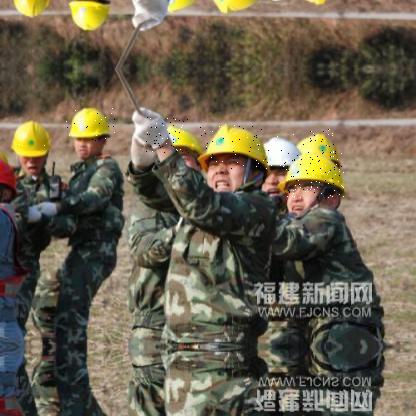safetyhelmet: (196, 122, 268, 171), (285, 154, 345, 200), (66, 106, 116, 142), (146, 116, 192, 154), (12, 124, 54, 164), (261, 134, 300, 170), (301, 128, 337, 166)
